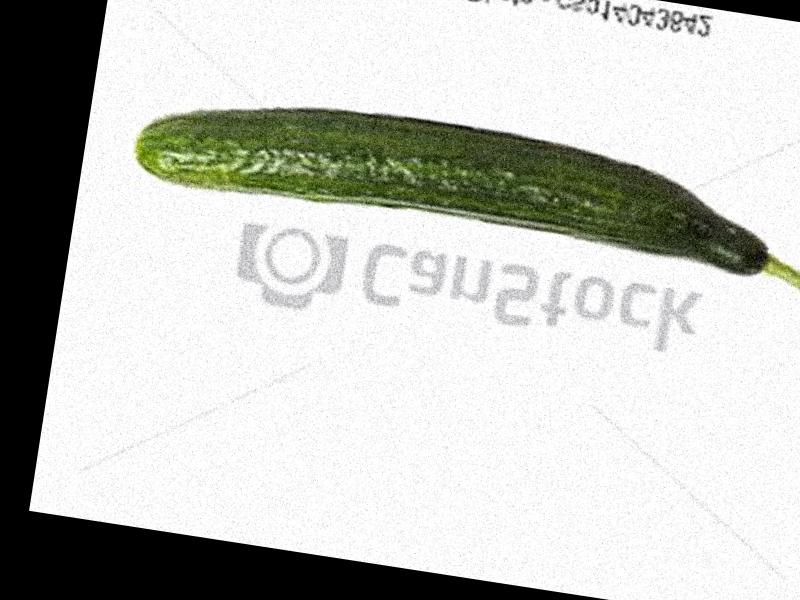Cucumber: (130, 76, 800, 310)
